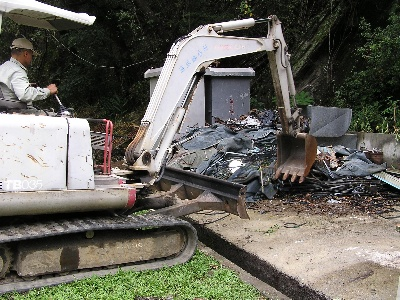plastic_bag: (184, 124, 277, 202)
